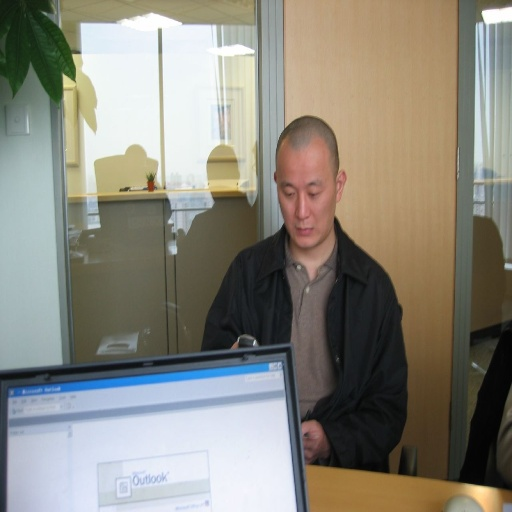hand: (301, 408, 336, 475)
